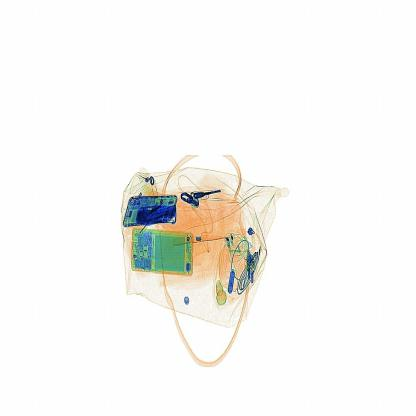knife: (133, 204, 181, 233)
